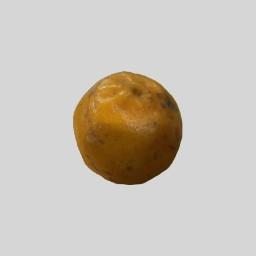Ripe: (72, 71, 183, 185)
